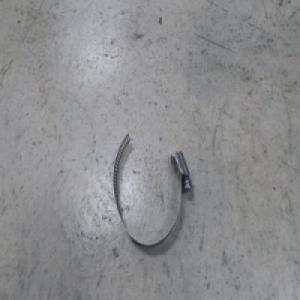AdjustableClamp: (113, 131, 192, 246)
